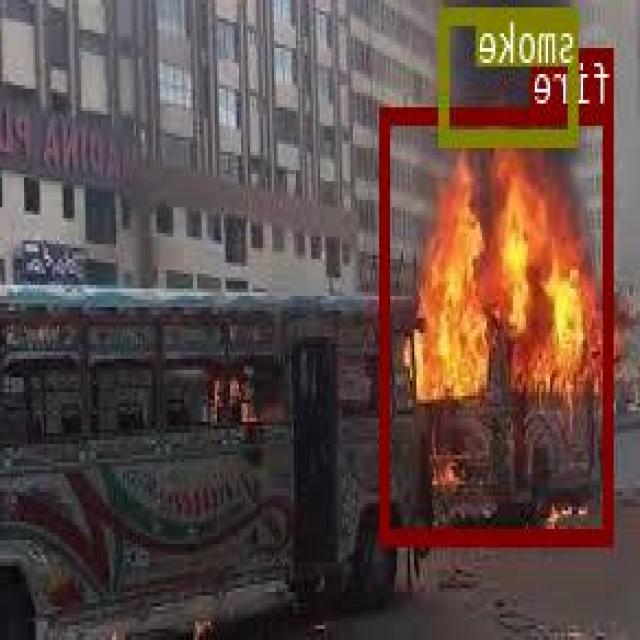fire: (382, 106, 614, 542)
smoke: (442, 4, 580, 141)
